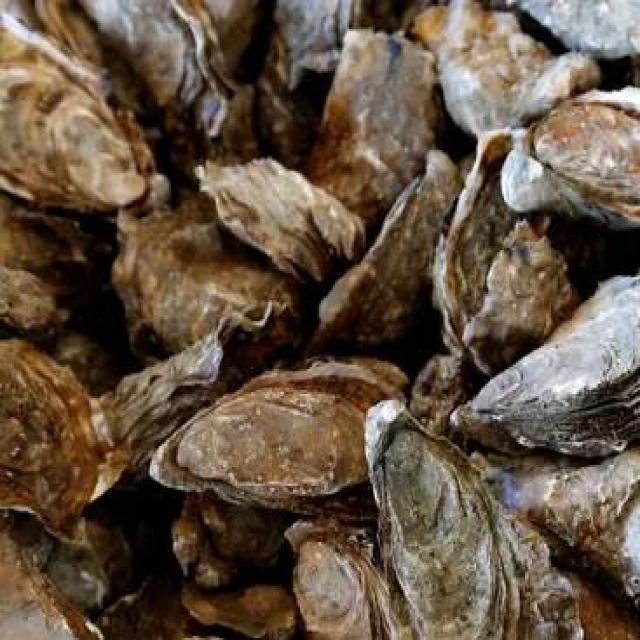Oyster- Indeterminate: (113, 187, 302, 395), (152, 363, 397, 522), (0, 3, 174, 219), (366, 400, 522, 640), (451, 275, 640, 455), (301, 30, 441, 223), (490, 445, 640, 609), (0, 337, 117, 542), (436, 0, 601, 139), (195, 158, 367, 281), (502, 86, 640, 229), (468, 218, 578, 376), (499, 504, 585, 640), (293, 531, 398, 640), (0, 534, 105, 640), (170, 494, 285, 585), (495, 0, 640, 59), (266, 0, 361, 86), (183, 581, 298, 640), (99, 576, 187, 640), (0, 266, 65, 340)
Oyster-Closed: (296, 148, 458, 363), (437, 126, 550, 377), (73, 0, 235, 137), (98, 337, 222, 481), (407, 354, 486, 455), (32, 0, 102, 63)
